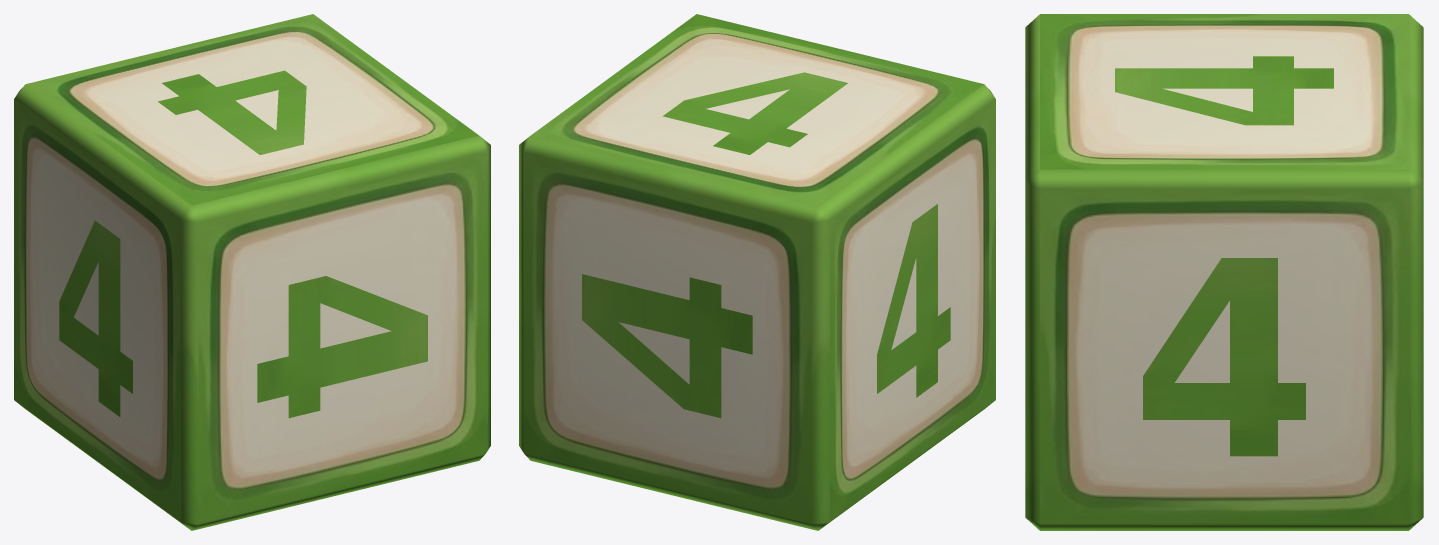
3 views of the same model, side by side, from view 1: azimuth 30°, elevation 25°; view 2: azimuth 150°, elevation 25°; view 3: azimuth 270°, elevation 25° (orthographic). The views are drawn at different scales.
Parts seen in each view (by area): view 1: Cube4; view 2: Cube4; view 3: Cube4.
Part boxes in pixels (x1=…): Cube4: x1=14, y1=14, x2=490, y2=530; Cube4: x1=519, y1=14, x2=995, y2=530; Cube4: x1=1025, y1=14, x2=1423, y2=530.
Size of what is drawn, in the model's own units: 0.513 by 0.513 by 0.513.
1 material, 1 textured.
